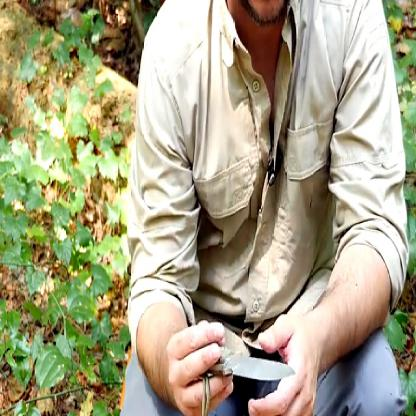knife: (159, 311, 304, 415)
